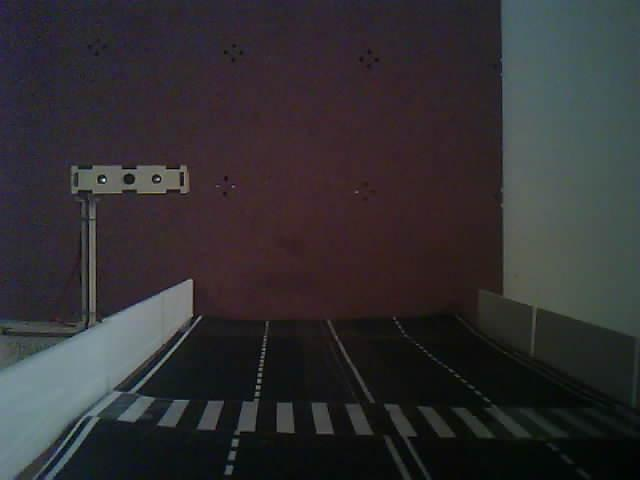crosswalk: (59, 341, 640, 477)
no: (37, 143, 240, 338)
